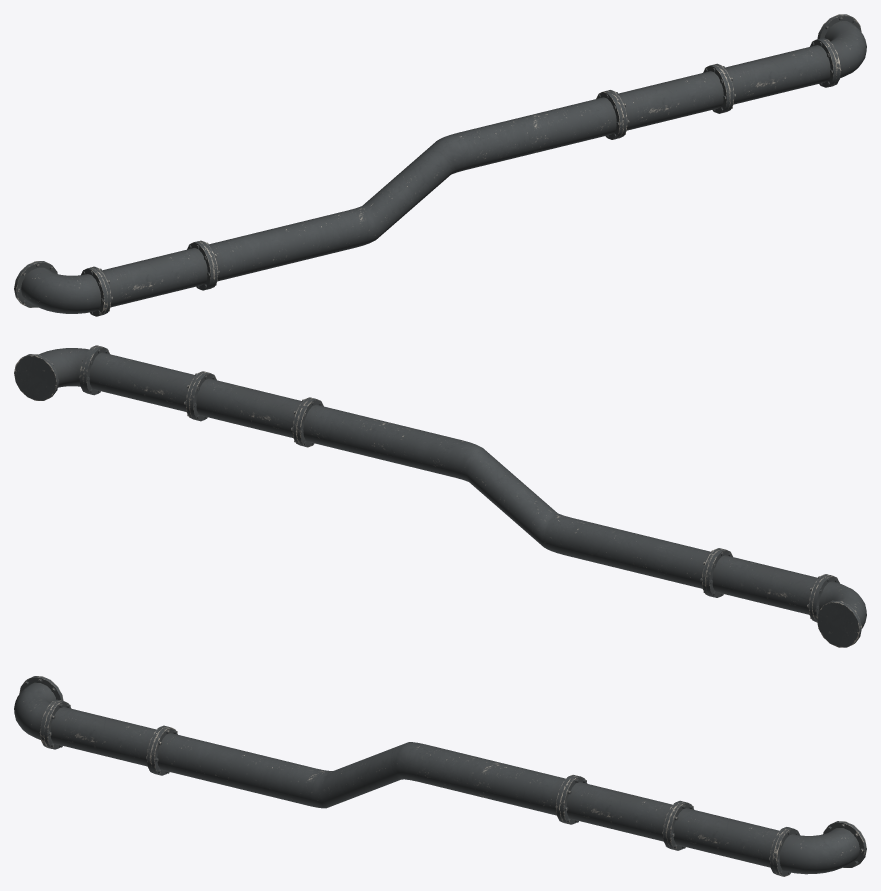
File: Pipe_Combinations_04.fbx
The picture shows the model from 3 angles, top to bottom: view 1: azimuth 30°, elevation 25°; view 2: azimuth 150°, elevation 25°; view 3: azimuth 330°, elevation 25°; orthographic projection.
Visible parts, largest first — view 1: LP_S_Pipe.001; view 2: LP_S_Pipe.001; view 3: LP_S_Pipe.001.
Part boxes in pixels (left/top/right/bottom): LP_S_Pipe.001: left=14, top=14, right=866, bottom=316; LP_S_Pipe.001: left=14, top=345, right=866, bottom=647; LP_S_Pipe.001: left=14, top=676, right=866, bottom=876.
Size of the model in its own units: 523 by 56.52 by 38.2.
